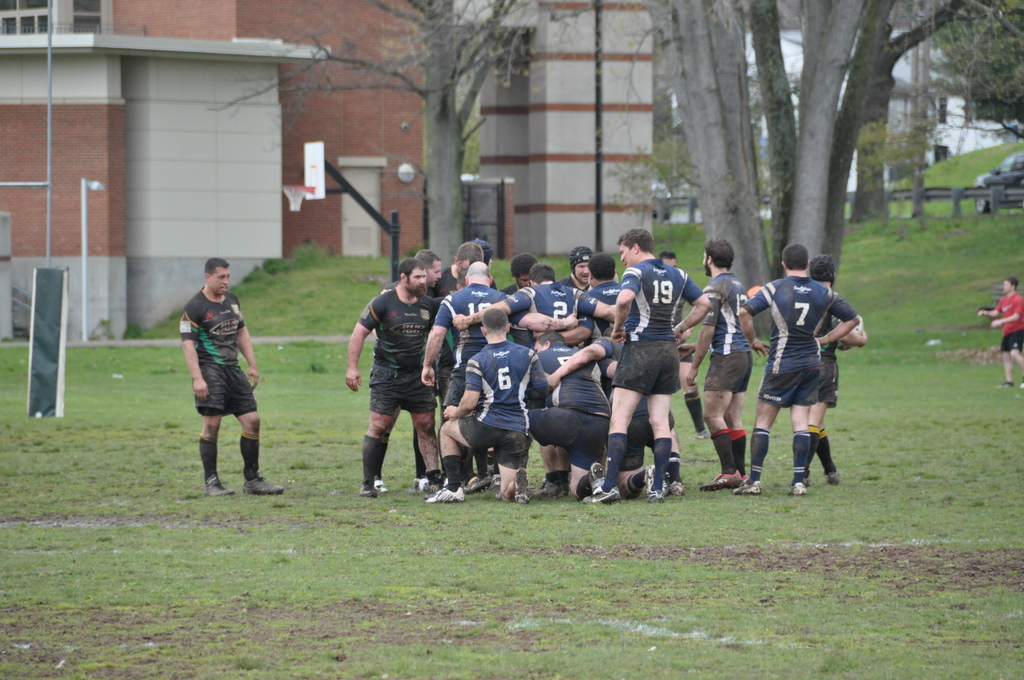Footwear: (700, 473, 747, 494), (429, 480, 467, 503), (513, 467, 533, 508), (246, 473, 289, 492), (588, 487, 623, 505), (642, 464, 660, 499), (735, 475, 763, 496), (465, 471, 490, 492), (536, 471, 557, 496), (819, 470, 848, 486), (413, 474, 431, 499), (589, 462, 604, 492), (206, 482, 238, 496), (663, 478, 688, 495), (790, 480, 811, 498), (650, 478, 664, 504), (488, 471, 502, 494), (995, 374, 1017, 387), (371, 480, 390, 494), (358, 483, 373, 499)
